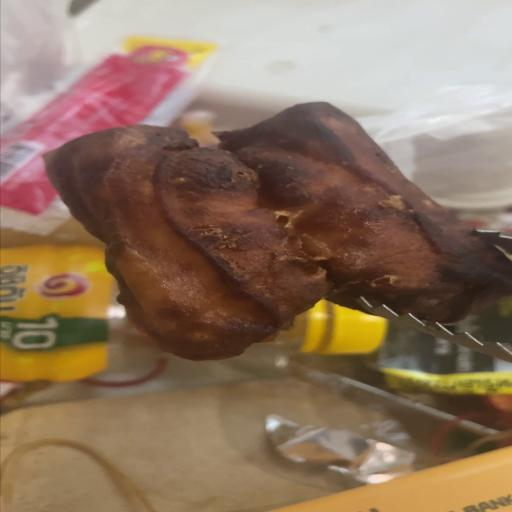street_burnt_defect: (46, 103, 512, 360)
